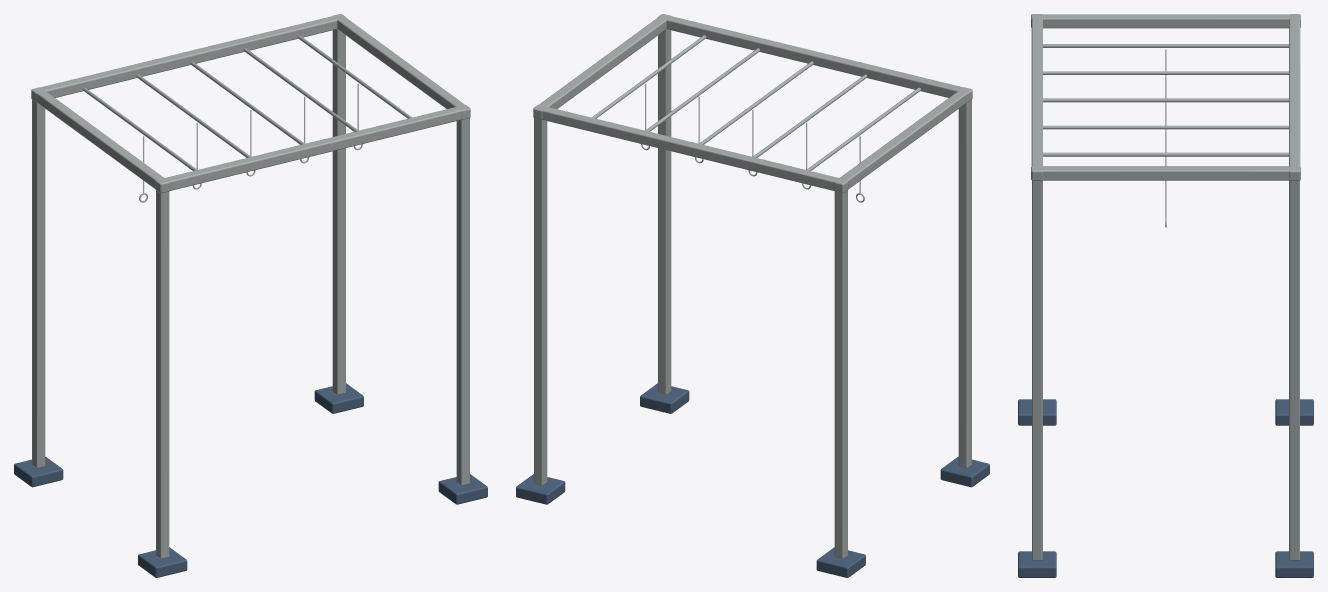
The model's file is spacecraft-parachute-packing-hall-spacecraft-parachute-f3bd6e39__32079.glb.
The picture shows the model from 3 angles, left to right: view 1: azimuth 30°, elevation 25°; view 2: azimuth 150°, elevation 25°; view 3: azimuth 270°, elevation 25°; orthographic projection. The views are drawn at different scales.
Parts seen in each view (by area): view 1: spacecraft-parachute-packing-hall-suspended-drying-frame; view 2: spacecraft-parachute-packing-hall-suspended-drying-frame; view 3: spacecraft-parachute-packing-hall-suspended-drying-frame.
Part boxes in pixels (left/top/right/bottom): spacecraft-parachute-packing-hall-suspended-drying-frame: left=14, top=14, right=487, bottom=577; spacecraft-parachute-packing-hall-suspended-drying-frame: left=516, top=14, right=989, bottom=577; spacecraft-parachute-packing-hall-suspended-drying-frame: left=1018, top=14, right=1313, bottom=577.
Bounding box in the file's own units: 3.1 × 3.45 × 2.3.
